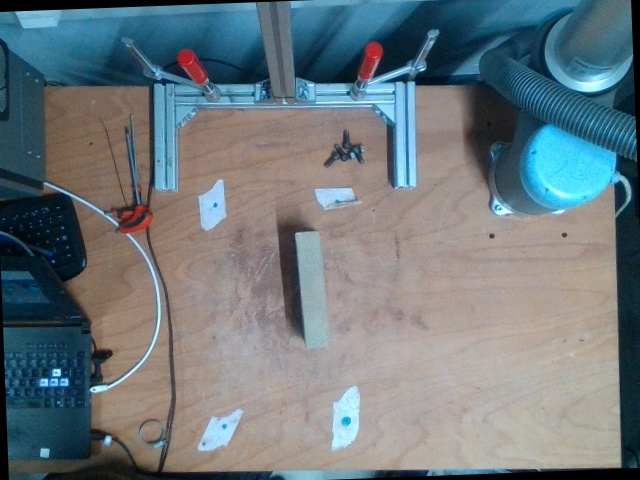brick-side: (297, 234, 327, 345)
